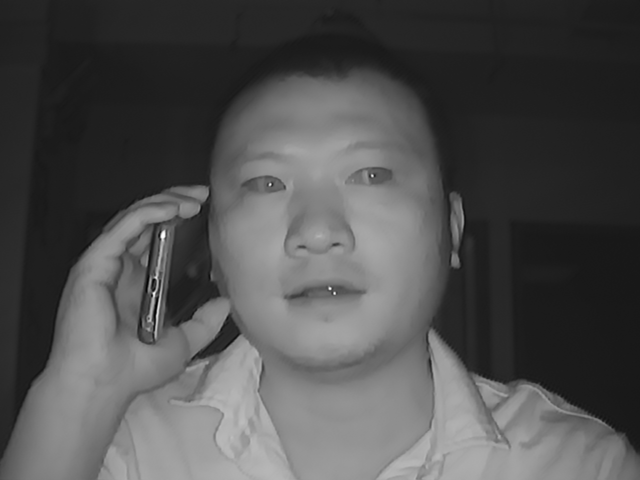hand: (56, 174, 221, 396)
